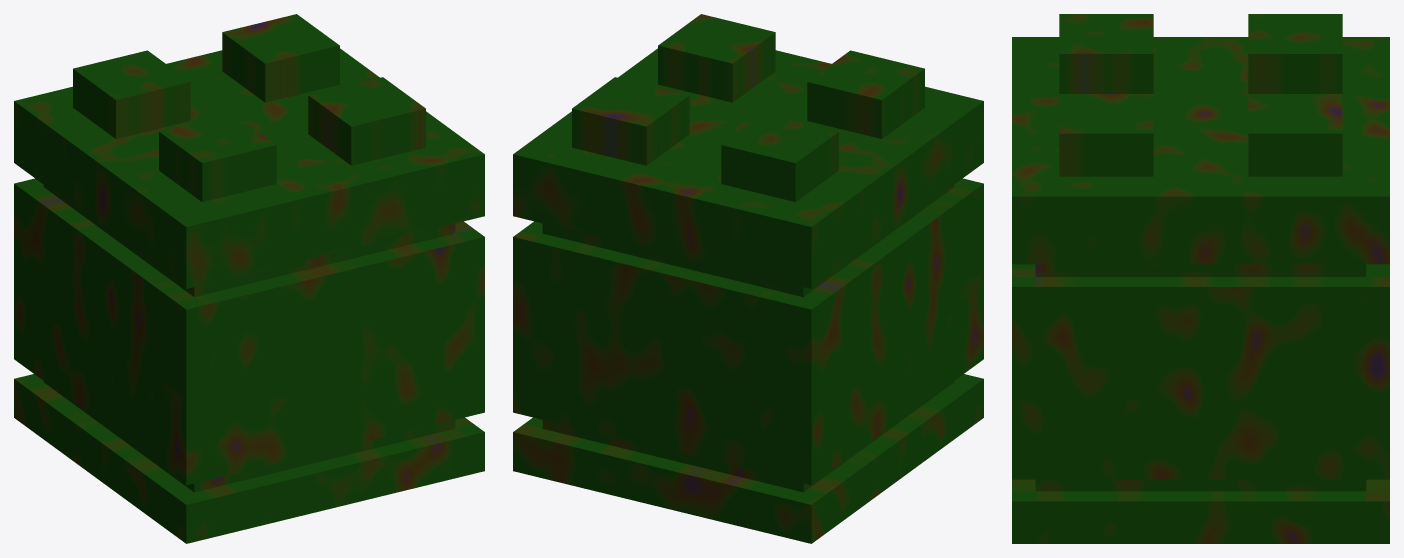
File: PuzzleBlockFixed.fbx
3 renders of one model, left to right at view 1: azimuth 30°, elevation 25°; view 2: azimuth 150°, elevation 25°; view 3: azimuth 270°, elevation 25°, orthographic. The views are drawn at different scales.
Parts seen in each view (by area): view 1: Cube; view 2: Cube; view 3: Cube.
Part boxes in pixels (box(x1,y1,x2,y2)): Cube: box(14, 14, 484, 543); Cube: box(513, 14, 983, 543); Cube: box(1012, 14, 1389, 543).
Size of the model in its own units: 1 by 1.14 by 1.
